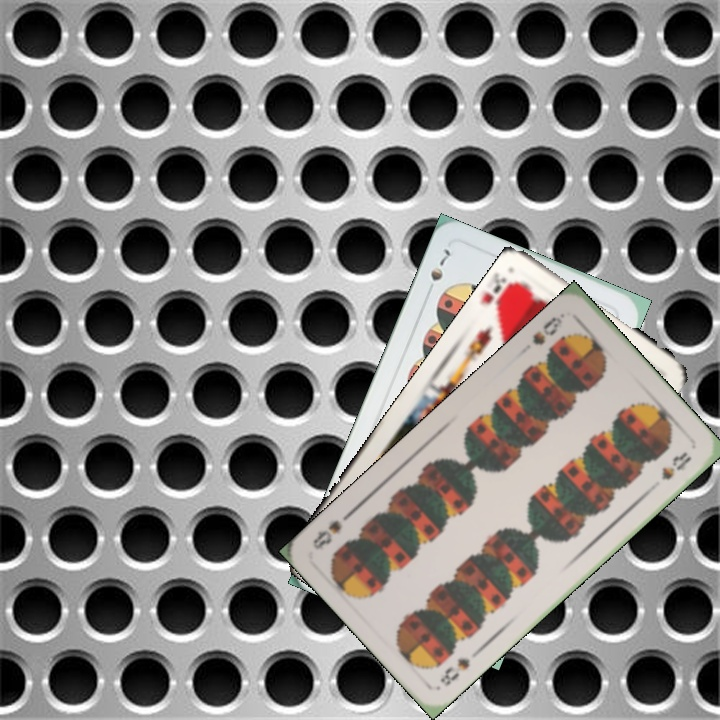HK: (489, 270, 522, 320)
S7: (421, 244, 453, 299)
S8: (528, 309, 568, 348), (436, 654, 473, 690)
